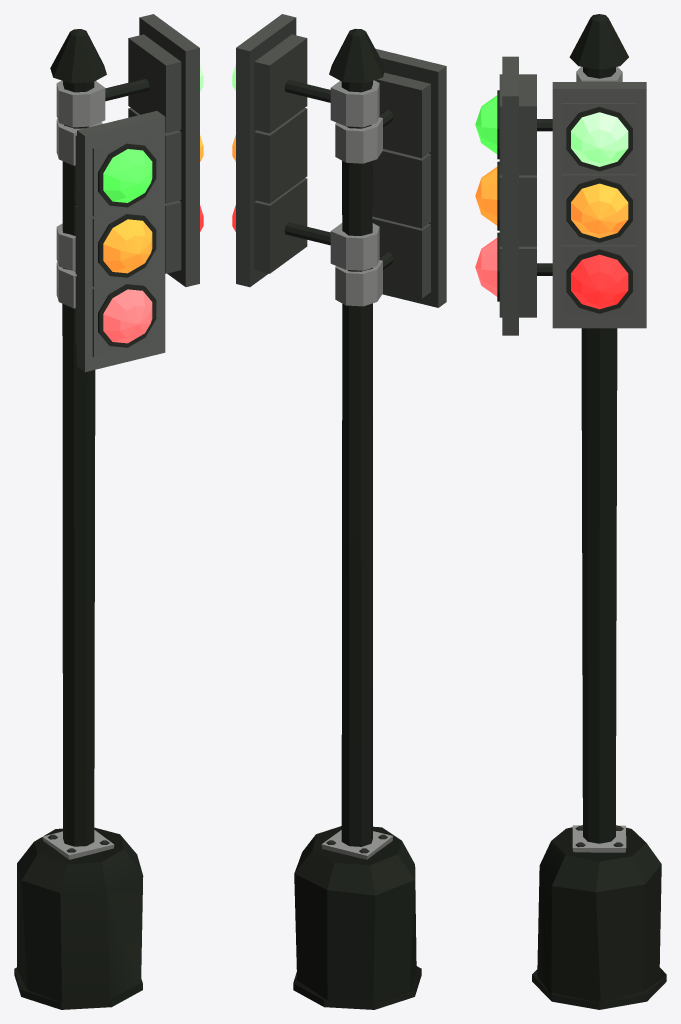
File: Traffic_Light_B.glb
3 views of the same model, side by side, from view 1: azimuth 30°, elevation 25°; view 2: azimuth 150°, elevation 25°; view 3: azimuth 270°, elevation 25° (orthographic).
Visible parts, largest first — view 1: TrafficLight_B; view 2: TrafficLight_B; view 3: TrafficLight_B.
Boxes of the visible parts, left/top/right/bottom form: TrafficLight_B: left=14, top=14, right=203, bottom=1009; TrafficLight_B: left=232, top=14, right=446, bottom=1009; TrafficLight_B: left=475, top=14, right=666, bottom=1009.
Size of what is drawn, in the model's own units: 0.957 by 4.87 by 0.8752.
1 material, 1 textured.
